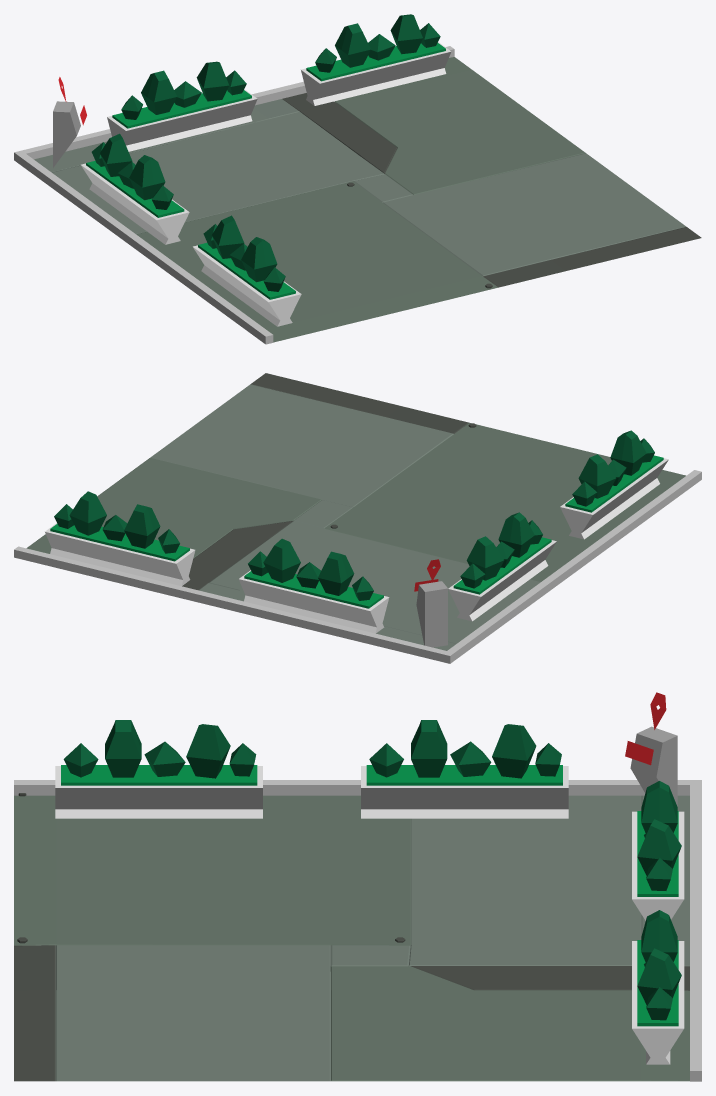
The picture shows the model from 3 angles, top to bottom: view 1: azimuth 30°, elevation 25°; view 2: azimuth 150°, elevation 25°; view 3: azimuth 270°, elevation 25°; orthographic projection. The views are drawn at different scales.
Visible parts, largest first — view 1: Scifi_Panel_04_Plaza014_group4.026, base_pot.014, base_pot.015, base_pot.017, base_pot.016, Cube.1037_Cube.1161, panel.008; view 2: Scifi_Panel_04_Plaza014_group4.026, Cube.1037_Cube.1161, base_pot.015, base_pot.014, base_pot.017, base_pot.016, panel.008; view 3: Scifi_Panel_04_Plaza014_group4.026, base_pot.017, base_pot.016, Cube.1037_Cube.1161, base_pot.014, base_pot.015, panel.008.
Part boxes in pixels (x1,y1,x2,y2): Scifi_Panel_04_Plaza014_group4.026: (34, 57, 701, 342); base_pot.014: (301, 14, 451, 105); base_pot.015: (107, 61, 257, 151); base_pot.017: (81, 133, 189, 244); base_pot.016: (193, 215, 301, 326); Cube.1037_Cube.1161: (14, 46, 454, 344); panel.008: (53, 77, 86, 167); Scifi_Panel_04_Plaza014_group4.026: (26, 373, 685, 650); Cube.1037_Cube.1161: (14, 470, 701, 663); base_pot.015: (238, 538, 389, 633); base_pot.014: (45, 491, 195, 586); base_pot.017: (448, 512, 556, 621); base_pot.016: (560, 430, 668, 539); panel.008: (414, 559, 447, 647); Scifi_Panel_04_Plaza014_group4.026: (14, 793, 689, 1081); base_pot.017: (361, 720, 568, 818); base_pot.016: (55, 720, 262, 818); Cube.1037_Cube.1161: (14, 780, 701, 1081); base_pot.014: (632, 910, 684, 1064); base_pot.015: (632, 781, 684, 920); panel.008: (625, 692, 677, 806).
Bounding box in the file's own units: 10 × 1.89 × 10.
